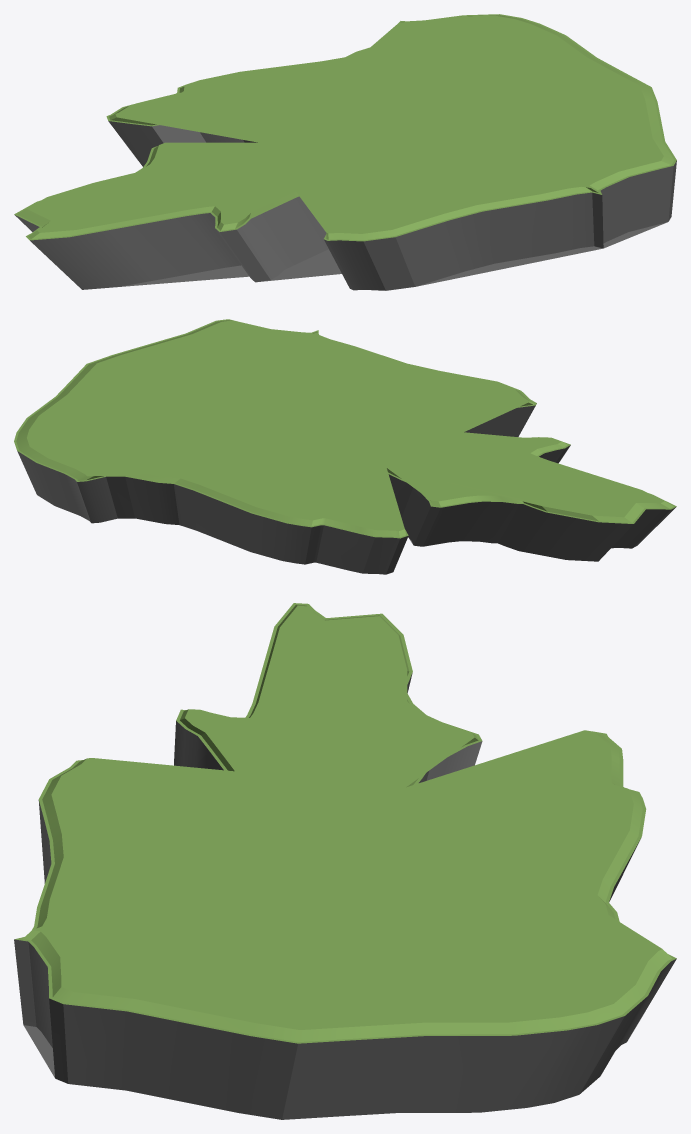
The model's file is Terrain_Plateau_Grass_01.fbx.
3 views of the same model, one above another, from view 1: azimuth 30°, elevation 25°; view 2: azimuth 150°, elevation 25°; view 3: azimuth 270°, elevation 25° (orthographic). The views are drawn at different scales.
Parts seen in each view (by area): view 1: Terrain_Plateau_Grass_01; view 2: Terrain_Plateau_Grass_01; view 3: Terrain_Plateau_Grass_01.
Part boxes in pixels (<box>): Terrain_Plateau_Grass_01: <box>14,14,676,290</box>; Terrain_Plateau_Grass_01: <box>14,319,676,574</box>; Terrain_Plateau_Grass_01: <box>14,603,676,1119</box>.
Bounding box in the file's own units: 2274 × 212 × 1446.
